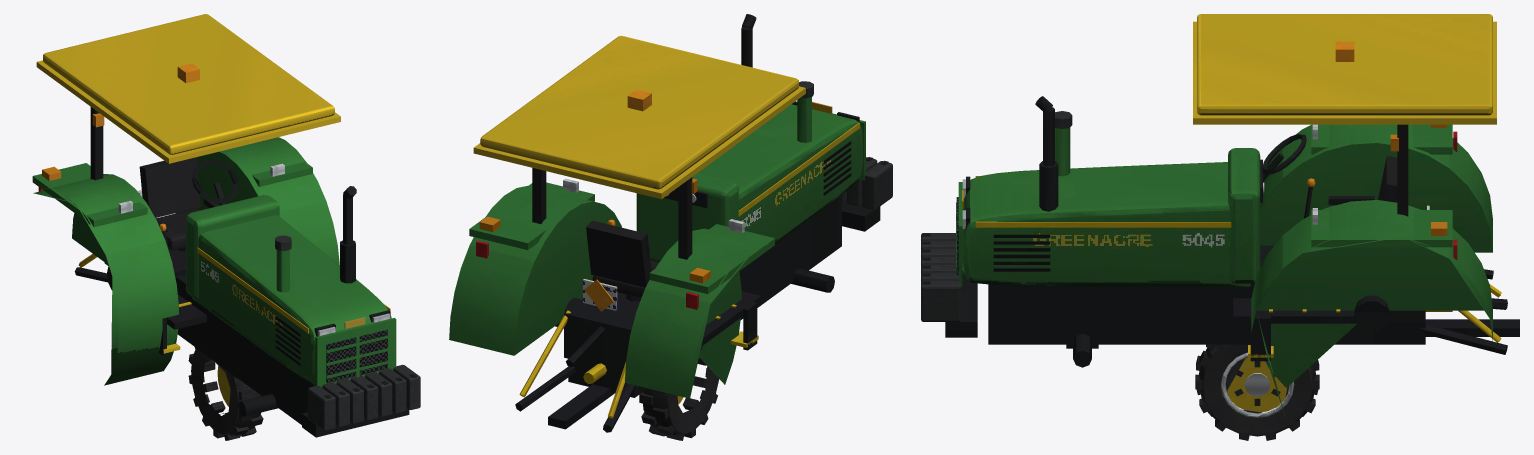
Rendered from tractor.glb.
3 renders of one model, left to right at view 1: azimuth 30°, elevation 25°; view 2: azimuth 150°, elevation 25°; view 3: azimuth 270°, elevation 25°, orthographic. The views are drawn at different scales.
Parts seen in each view (by area): view 1: Paint, Body_far, Body, Paint_far, Wheel, Wheel_far; view 2: Paint, Body_far, Body, Wheel, Paint_far, Wheel_far; view 3: Paint, Body_far, Body, Paint_far, Wheel_far, Wheel.
Part boxes in pixels (left/top/right/bottom): Paint: left=32, top=137, right=396, bottom=387; Body_far: left=37, top=14, right=420, bottom=437; Body: left=36, top=14, right=420, bottom=430; Paint_far: left=33, top=190, right=391, bottom=382; Wheel: left=188, top=347, right=263, bottom=440; Wheel_far: left=191, top=348, right=243, bottom=433; Paint: left=449, top=97, right=865, bottom=398; Body_far: left=473, top=14, right=892, bottom=432; Body: left=476, top=14, right=892, bottom=429; Wheel: left=639, top=357, right=718, bottom=440; Paint_far: left=636, top=120, right=862, bottom=397; Wheel_far: left=668, top=366, right=718, bottom=433; Paint: left=956, top=124, right=1492, bottom=387; Body_far: left=921, top=14, right=1507, bottom=358; Body: left=921, top=14, right=1519, bottom=367; Paint_far: left=964, top=148, right=1489, bottom=415; Wheel_far: left=1203, top=344, right=1311, bottom=434; Wheel: left=1195, top=344, right=1319, bottom=440.
Size of the model in its own units: 2.18 by 3.19 by 4.45.
3 materials, 3 textured.
